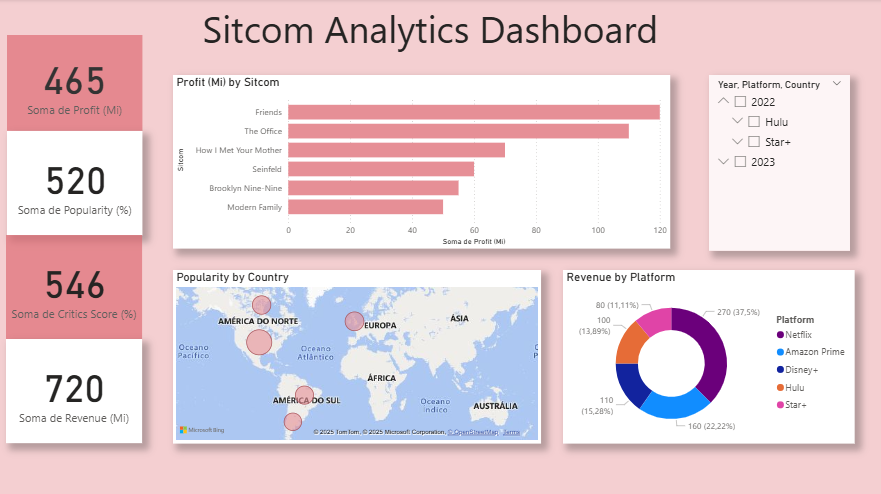

The dashboard page shown, as its layout file describes it:
{"tool":"powerbi","page":{"name":"Página 1","canvas":[1280,720],"ordinal":0},"visuals":[{"type":"card","fields":{"Values":["Sum(Sheet1.Profit (Mi))"]},"box":[12.5,52.5,195,137.5],"z":0},{"type":"card","fields":{"Values":["Sum(Sheet1.Popularity (%))"]},"box":[12.5,190,195,150],"z":1000},{"type":"card","fields":{"Values":["Sum(Sheet1.Critics Score (%))"]},"box":[12,340,196,150],"z":2000},{"type":"card","fields":{"Values":["Sum(Sheet1.Revenue (Mi))"]},"box":[12,490,196,150],"z":3000},{"type":"textbox","title":"Sitcom","box":[290,0,700,83],"z":4000},{"type":"barChart","title":" Profit (Mi) by Sitcom","fields":{"Y":["Sum(Sheet1.Profit (Mi))"],"Category":["Sheet1.Sitcom"]},"box":[252,110,716,250],"z":5000},{"type":"map","title":" Popularity by  Country","fields":{"Category":["Sheet1.Country"],"Size":["Sum(Sheet1.Popularity (%))"]},"box":[252,390,530,250],"z":6000},{"type":"slicer","fields":{"Values":["Sheet1.Year","Sheet1.Platform","Sheet1.Country"]},"box":[1023.3,110,203.3,253.3],"z":7000},{"type":"donutChart","title":"Revenue by Platform","fields":{"Category":["Sheet1.Platform"],"Y":["Sum(Sheet1.Revenue (Mi))"]},"box":[813.3,390,420,250],"z":8000}]}

Visuals, with their boxes in screenshot pixels (x1, y1, x2, y2), scaled from the page's 1280x720 canvas onto the 881x494 screenshot:
card - Sum(Sheet1.Profit (Mi)): left=9, top=36, right=143, bottom=130
card - Sum(Sheet1.Popularity (%)): left=9, top=130, right=143, bottom=233
card - Sum(Sheet1.Critics Score (%)): left=8, top=233, right=143, bottom=336
card - Sum(Sheet1.Revenue (Mi)): left=8, top=336, right=143, bottom=439
"Sitcom" textbox: left=200, top=0, right=681, bottom=57
" Profit (Mi) by Sitcom" barChart: left=173, top=75, right=666, bottom=247
" Popularity by  Country" map: left=173, top=268, right=538, bottom=439
slicer - Sheet1.Year x Sheet1.Platform: left=704, top=75, right=844, bottom=249
"Revenue by Platform" donutChart: left=560, top=268, right=849, bottom=439
